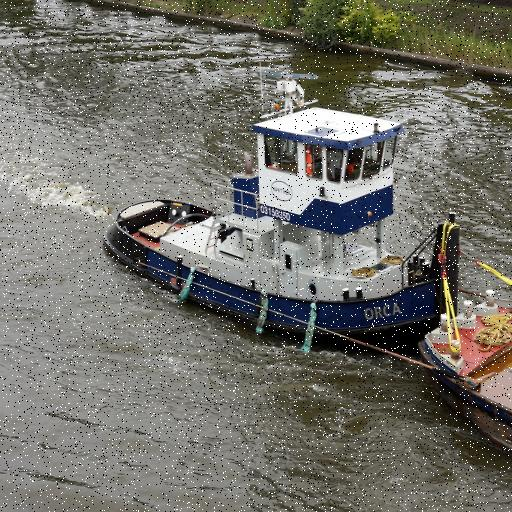tugboat: (99, 55, 467, 375)
